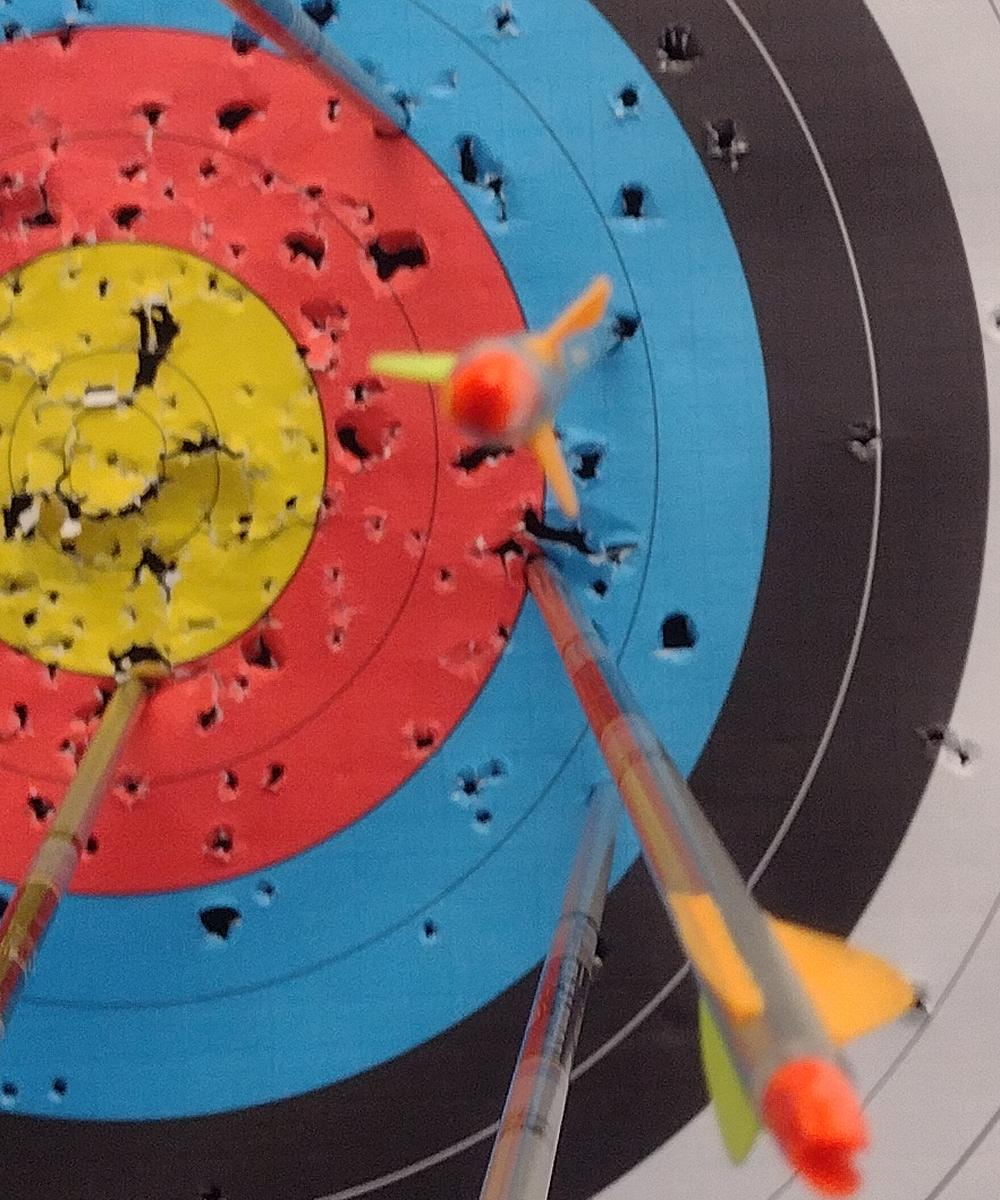10-Ring: (0, 308, 268, 615)
7-Ring: (0, 29, 547, 897)
8-Ring: (0, 135, 438, 784)
9-Ring: (0, 240, 324, 675)
Arrow: (526, 497, 966, 1200), (362, 191, 700, 521), (479, 771, 627, 1200)
